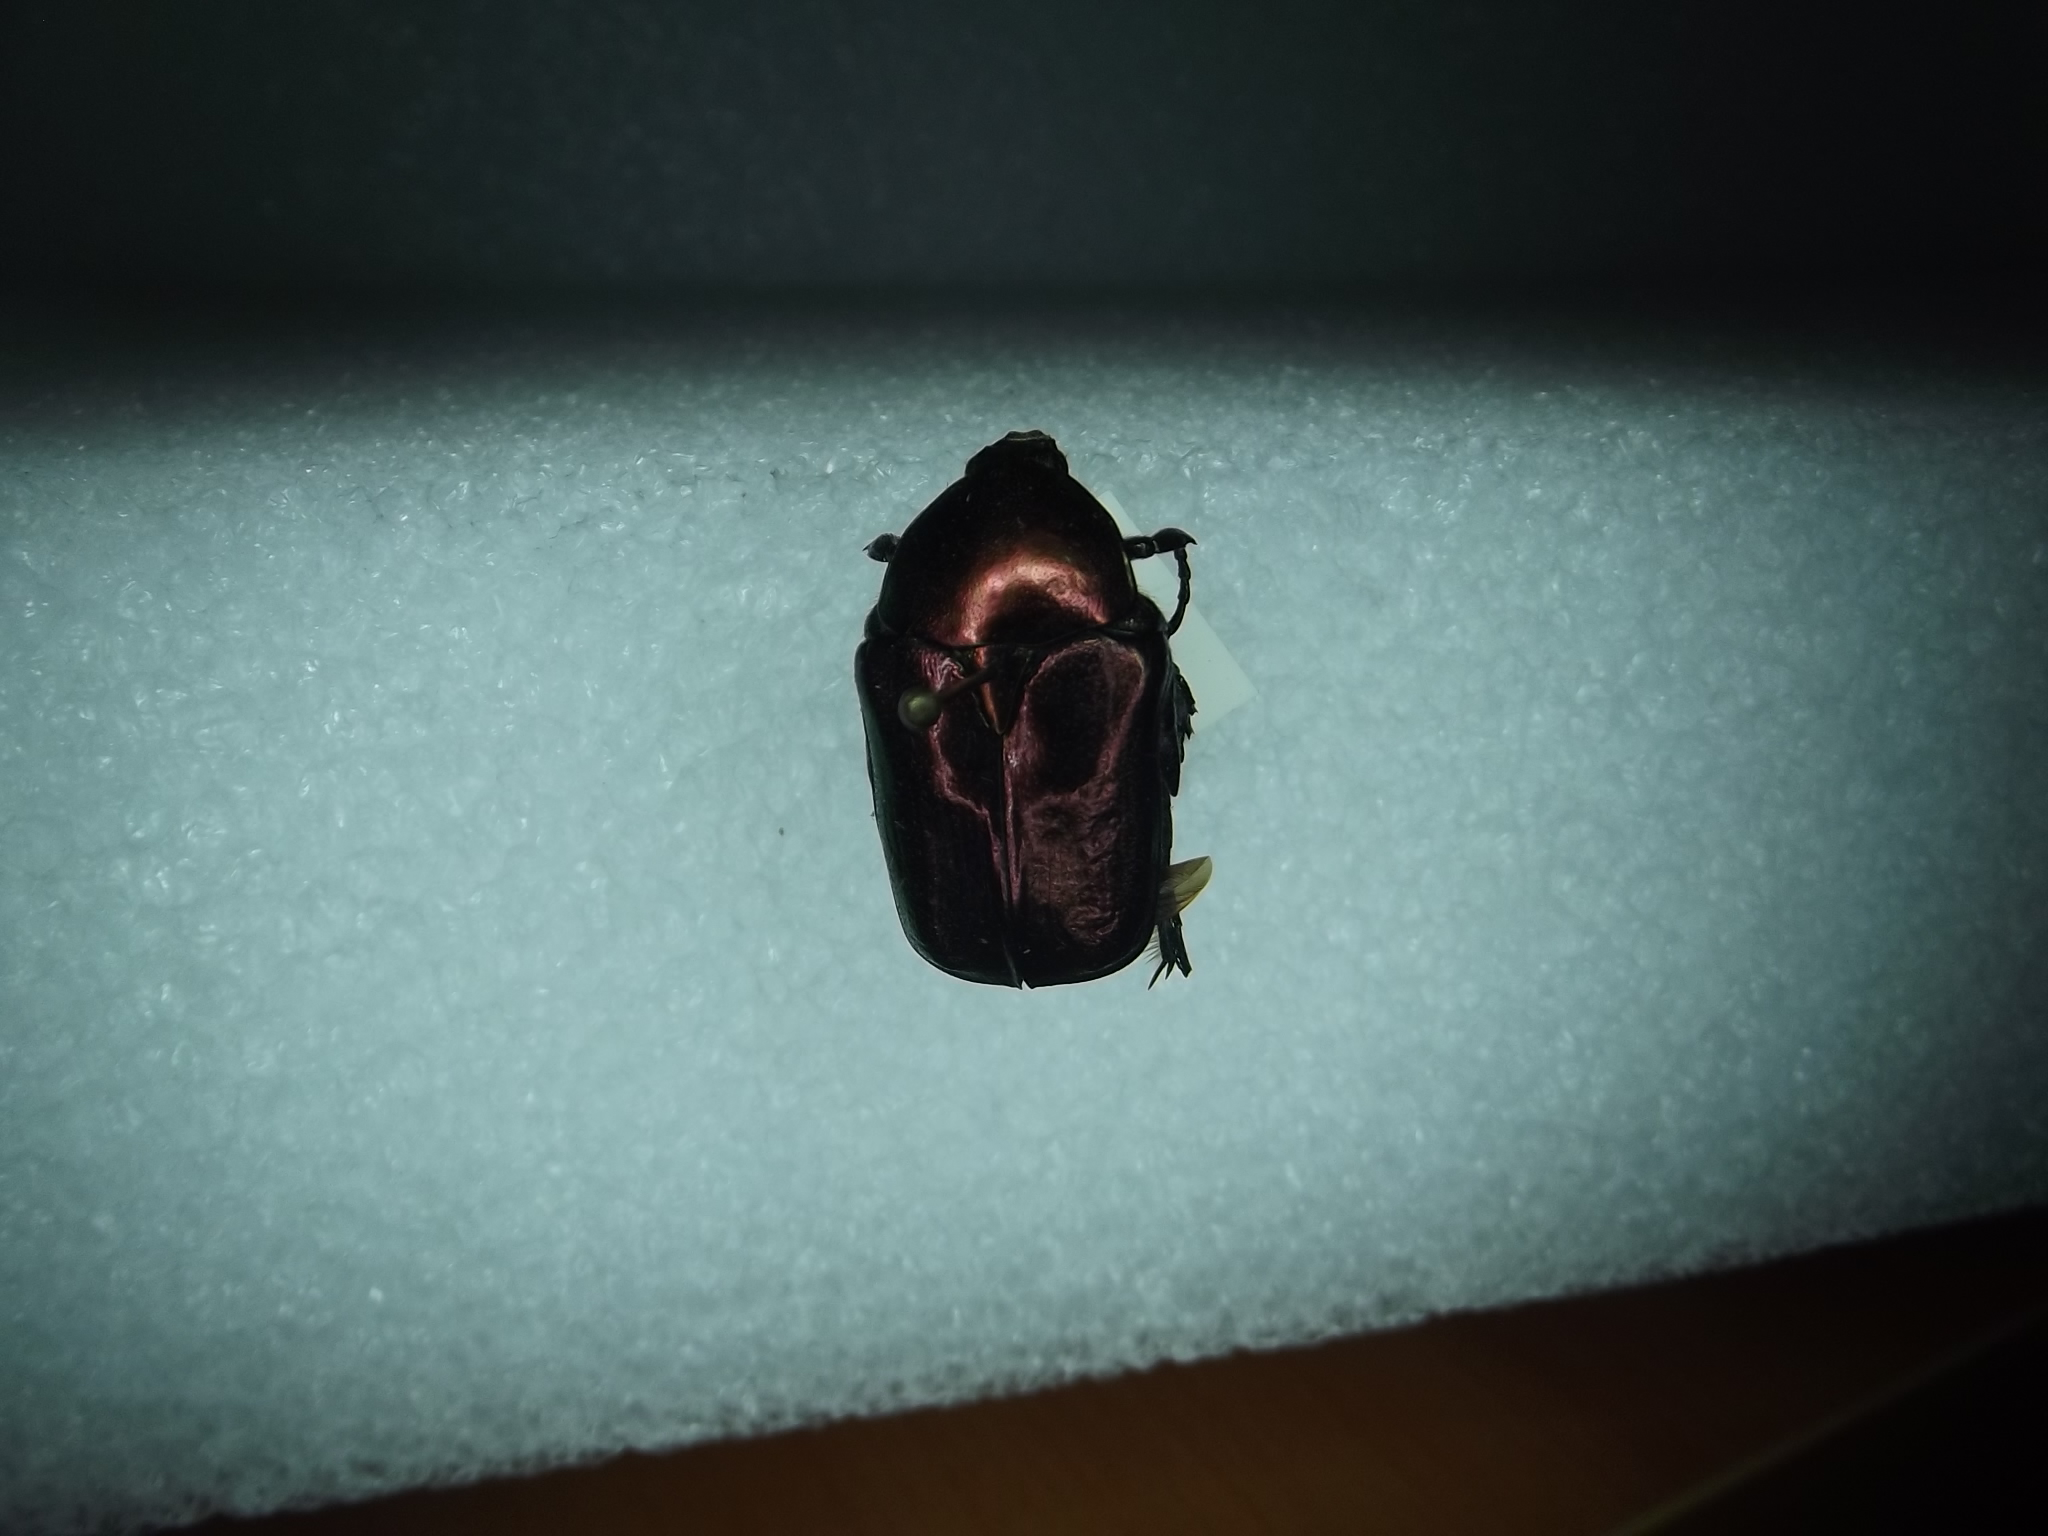Protaetia_cuprea_ignicollis: (848, 403, 1238, 1010)
